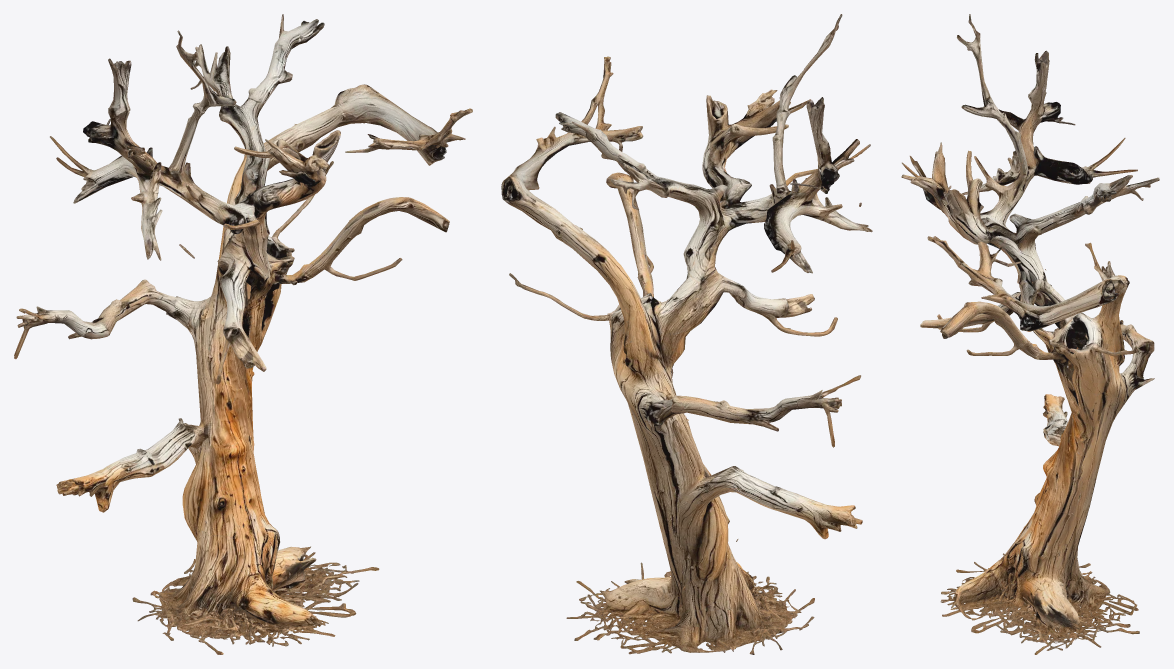
File: old_tree.glb
3 views of the same model, side by side, from view 1: azimuth 30°, elevation 25°; view 2: azimuth 150°, elevation 25°; view 3: azimuth 270°, elevation 25° (orthographic). The views are drawn at different scales.
Parts seen in each view (by area): view 1: Object_5; view 2: Object_5; view 3: Object_5.
Boxes of the visible parts, left/top/right/bottom form: Object_5: left=14, top=14, right=472, bottom=654; Object_5: left=501, top=14, right=872, bottom=654; Object_5: left=901, top=14, right=1159, bottom=654.
Size of the model in its own units: 1.23 by 1.9 by 0.8154.
Materials: 1 (1 with a texture image).
